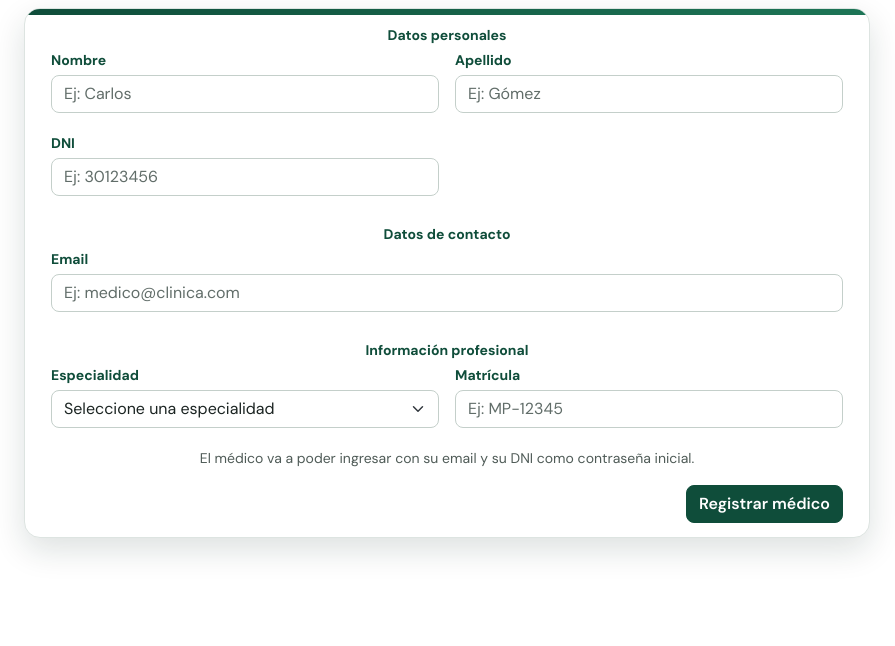
Test: RegistroMedicoForm › si el back responde 400 con detalle por campo lo marca en ese campo
This screenshot has width=895, height=646.
Type "Carlos" into the field labelled "Nombre". click: coordinates (245, 94)
box: [51,75,439,113]
Type "Gómez" into the field labelled "Apellido". click: coordinates (649, 94)
box: [455,75,843,113]
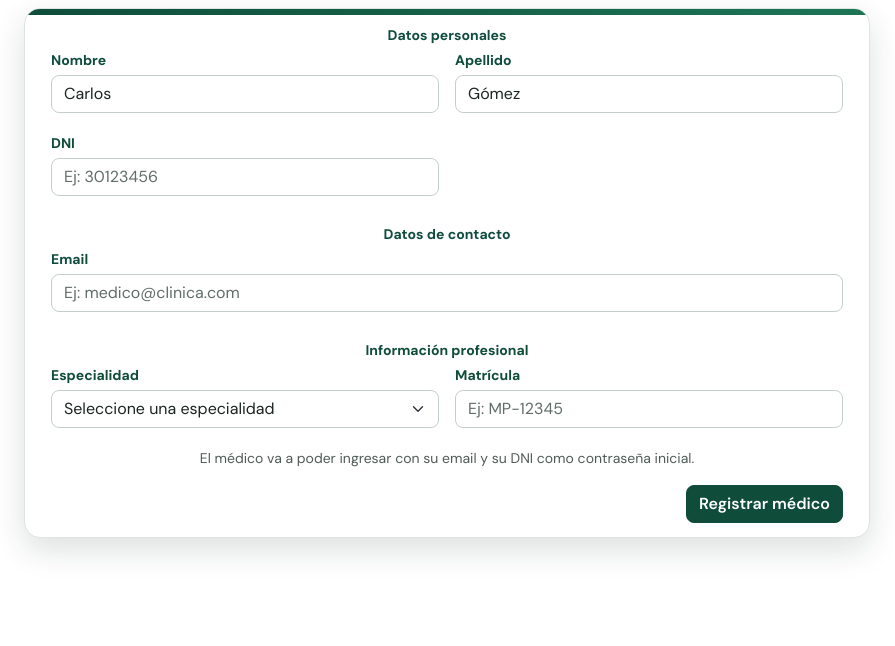
Type "30123456" into the field labelled "DNI". click: coordinates (245, 177)
box: [51,158,439,196]
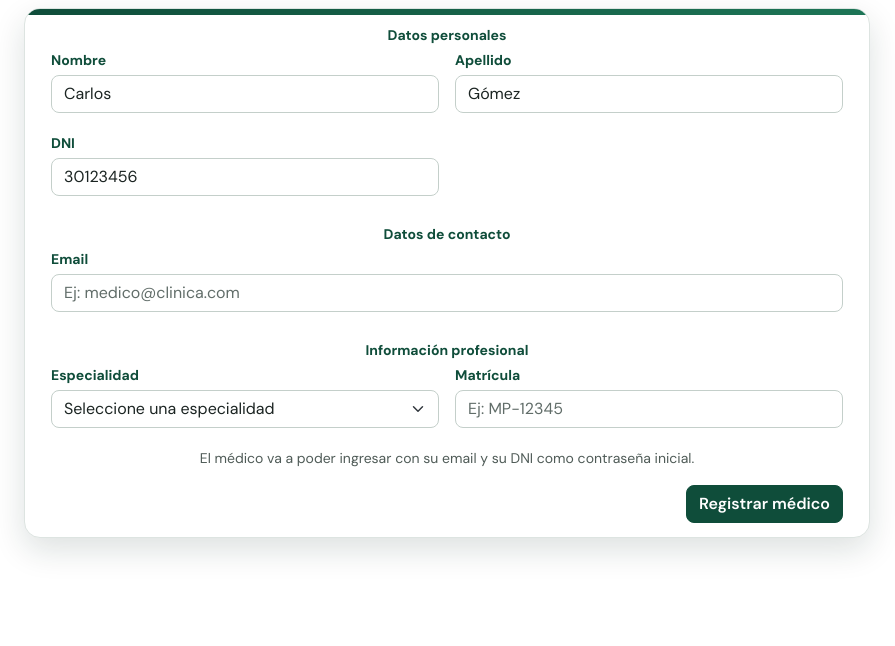
Type "medico@clinica.com" into the field labelled "Email". click: coordinates (447, 293)
box: [51,274,843,312]
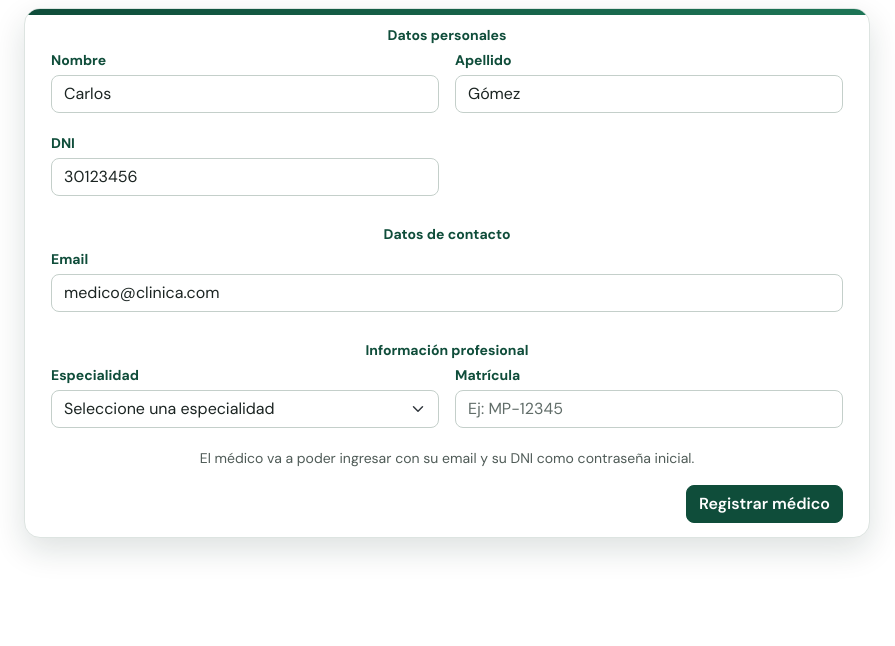
Select "Cardiología" in the dropdown labelled "Especialidad". click: coordinates (245, 409)
box: [51,390,439,428]
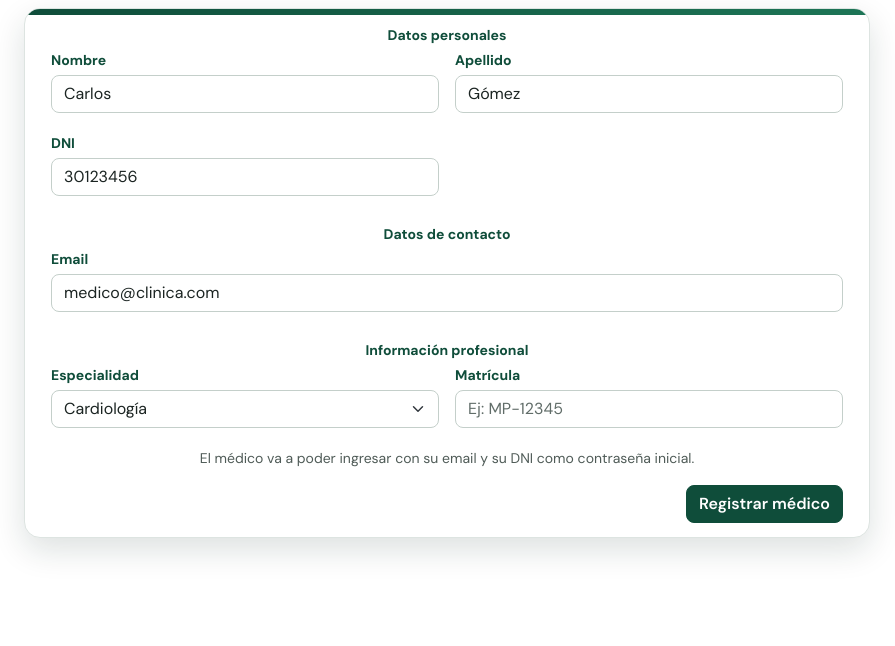
Type "mp-12345" into the field labelled "Matrícula". click: coordinates (649, 409)
box: [455,390,843,428]
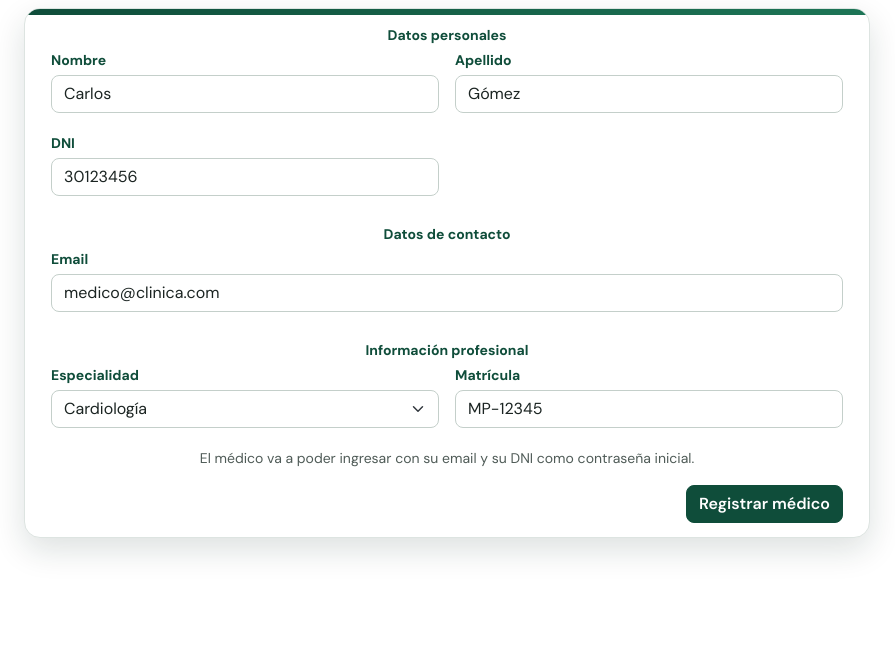
Click the button "Registrar médico". click: coordinates (764, 504)
box: [686,485,843,523]
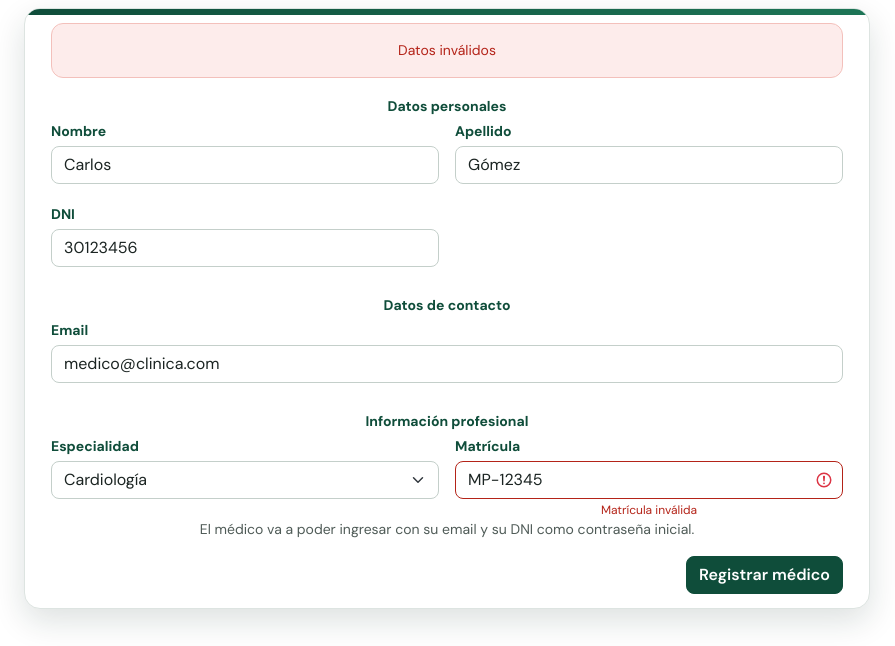
Expected: the text "Matrícula inválida" is shown, [601,502,697,518]
